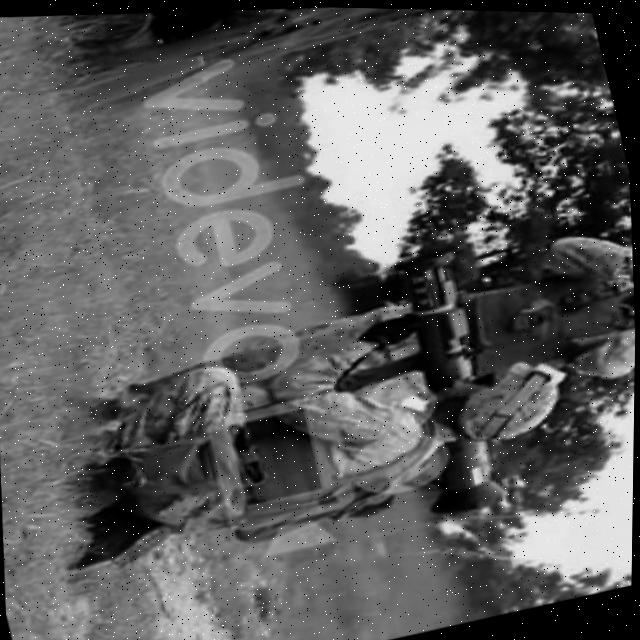rocket: (378, 239, 517, 517)
